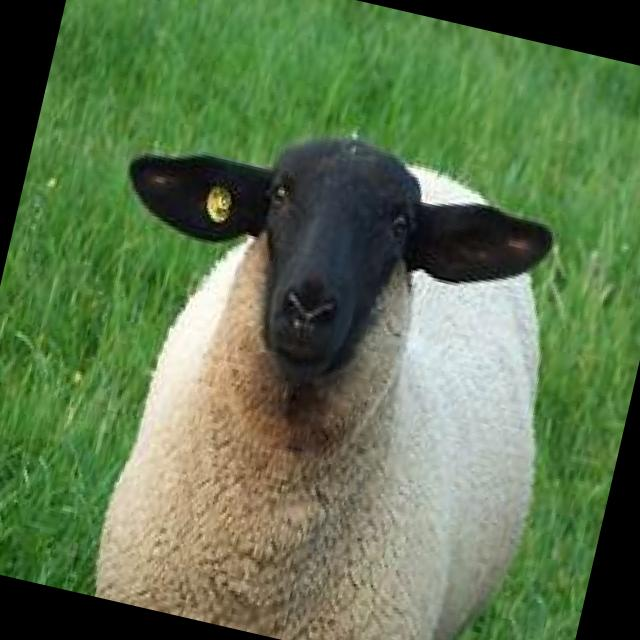animal: (34, 83, 606, 640)
